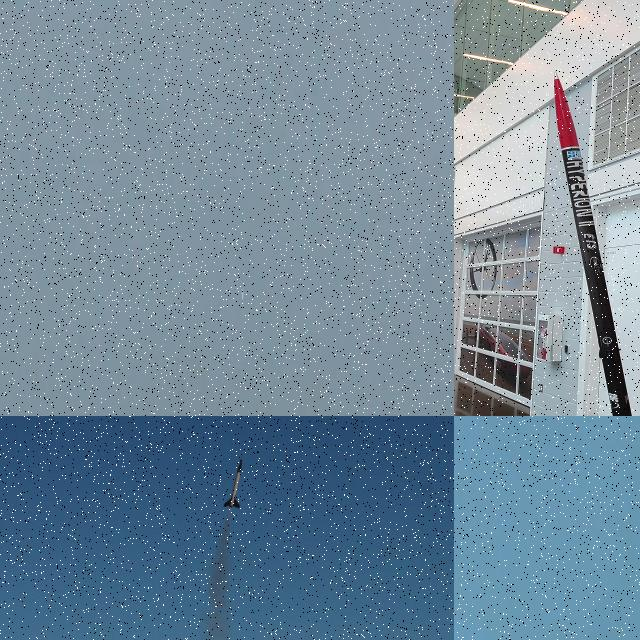Rocket: (554, 70, 632, 416), (223, 458, 243, 509), (241, 288, 244, 300)
